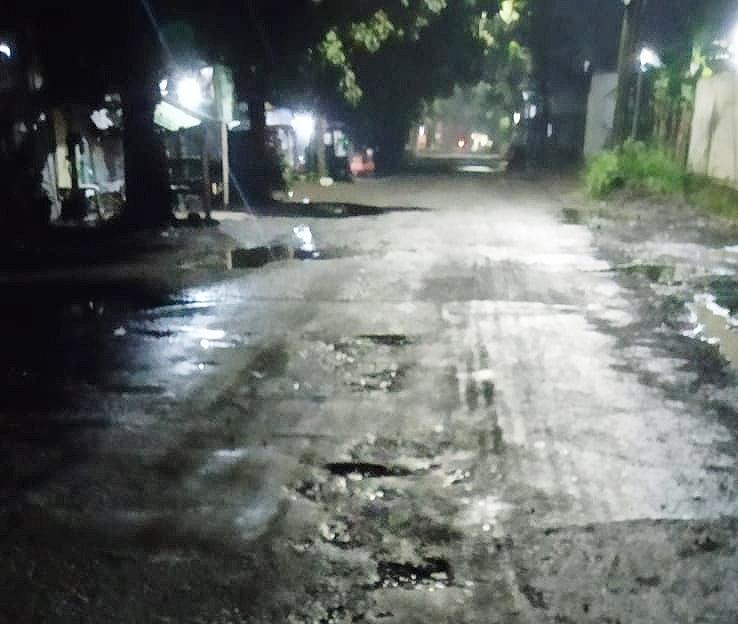Pothole: (315, 293, 428, 414), (289, 437, 426, 498), (345, 527, 484, 572)
